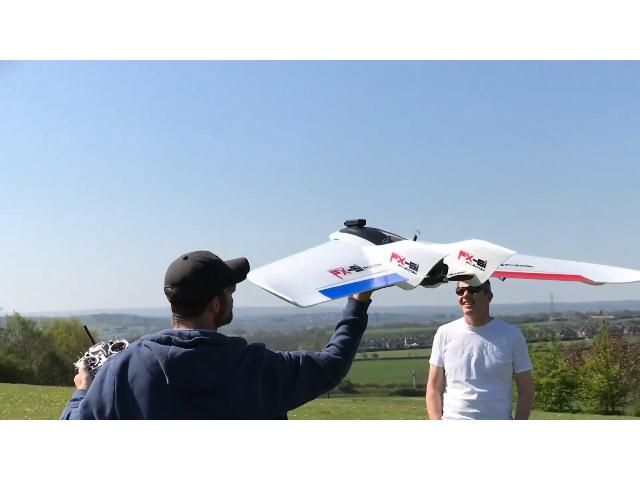Anti-Drone: (228, 194, 640, 320)
